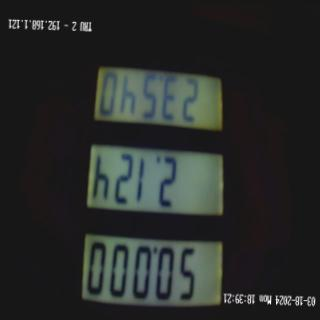screen: (74, 35, 234, 318)
